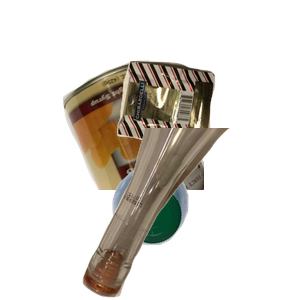glass: (80, 128, 300, 300)
metal: (60, 58, 300, 238)
plastic: (110, 164, 300, 300)
trash: (115, 58, 300, 200)
